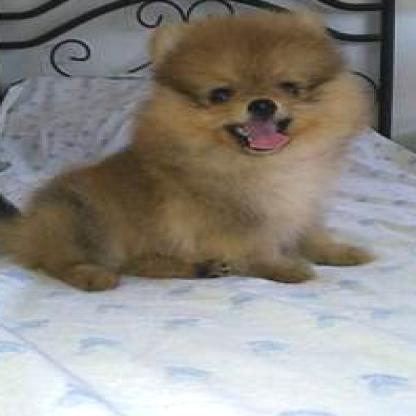dog: (2, 6, 380, 292)
